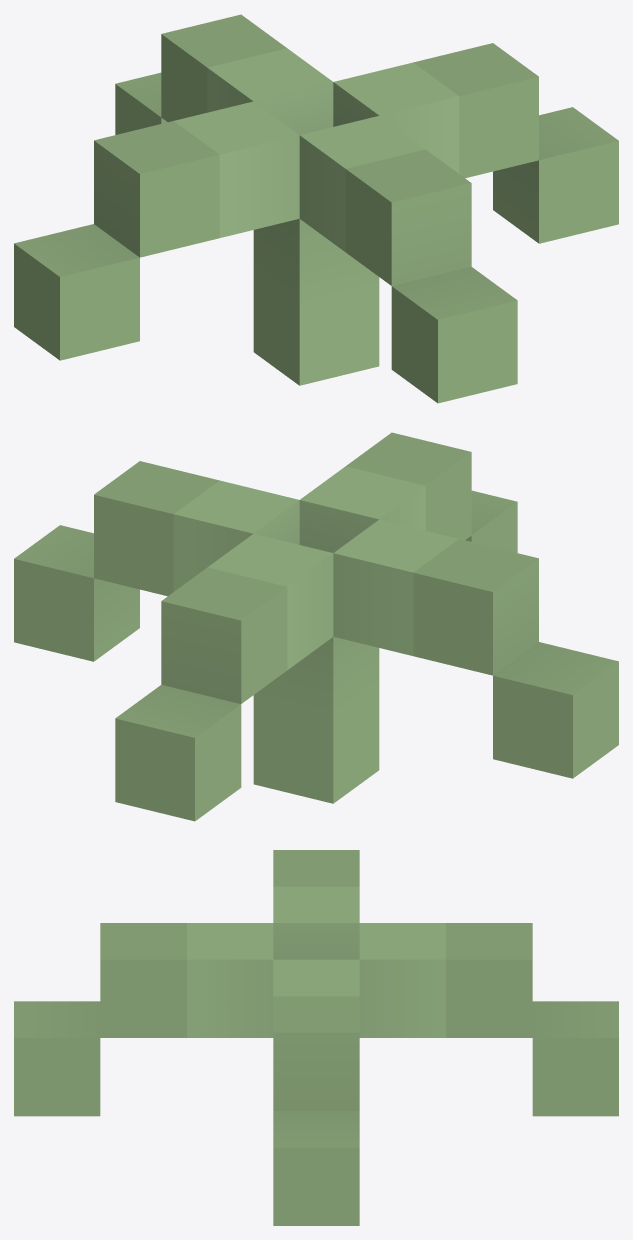
The model's file is decor_fern_a.glb.
3 views of the same model, one above another, from view 1: azimuth 30°, elevation 25°; view 2: azimuth 150°, elevation 25°; view 3: azimuth 270°, elevation 25° (orthographic). The views are drawn at different scales.
Parts seen in each view (by area): view 1: decor_fern_a; view 2: decor_fern_a; view 3: decor_fern_a.
Part boxes in pixels (x1,y1,x2,y2): decor_fern_a: (14, 14, 618, 403); decor_fern_a: (14, 432, 618, 821); decor_fern_a: (14, 850, 618, 1225).
Size of the model in its own units: 0.4375 by 0.1875 by 0.4375.
